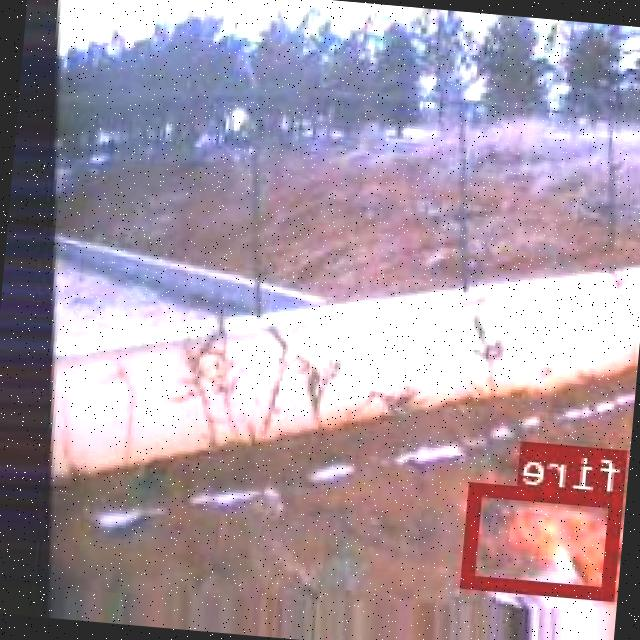fire: (463, 479, 624, 598)
